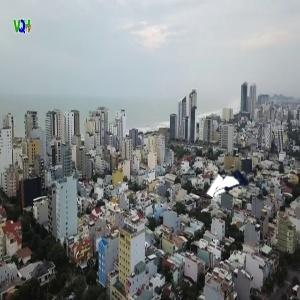drone: (214, 153, 273, 212)
